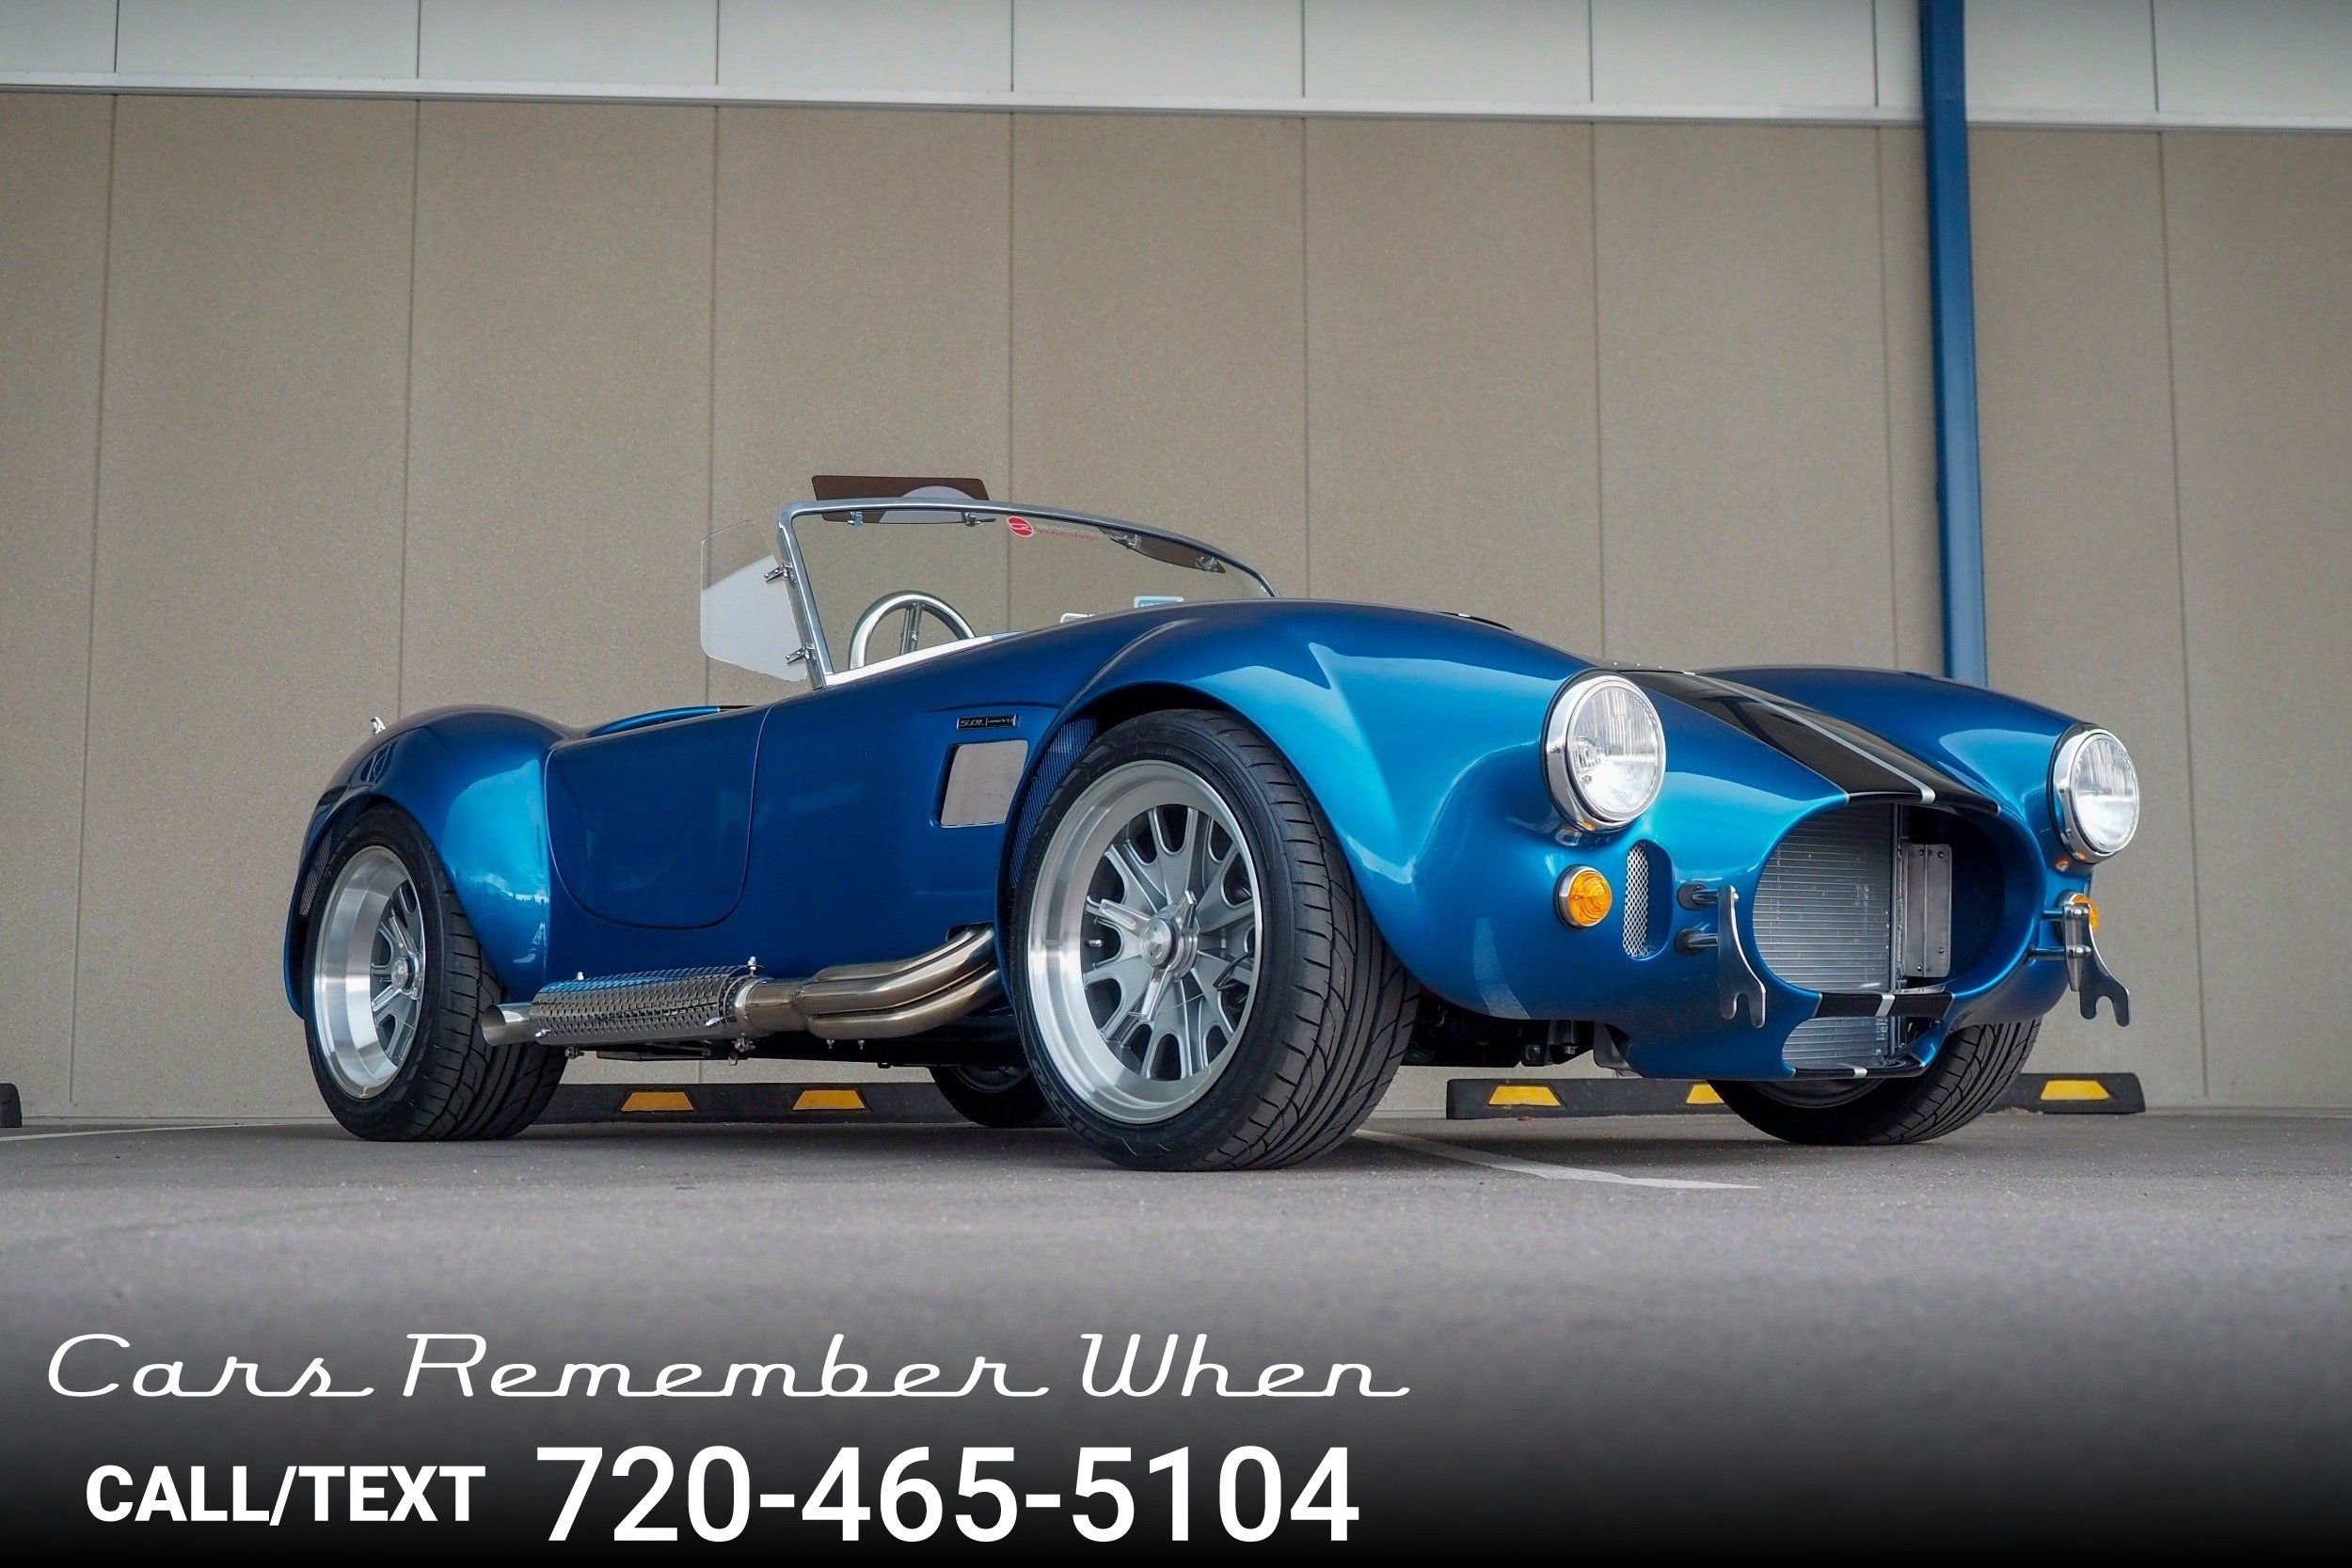car: (248, 416, 2119, 1151)
